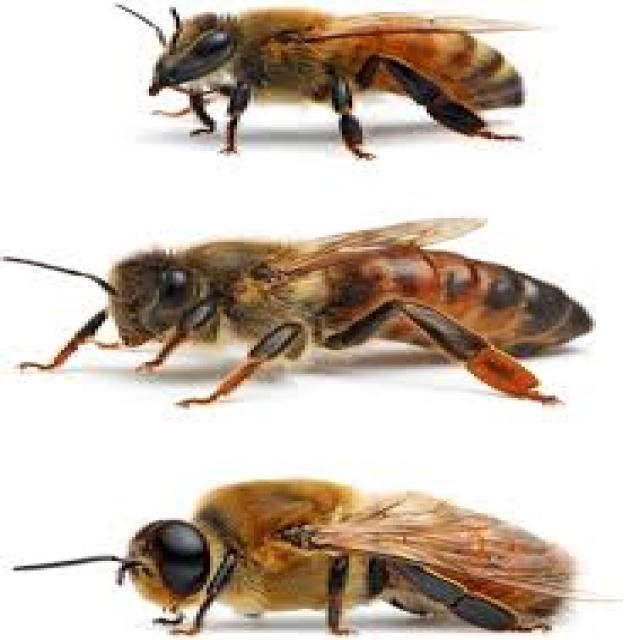Bees: (4, 220, 598, 404), (16, 477, 596, 640), (101, 0, 538, 161)
